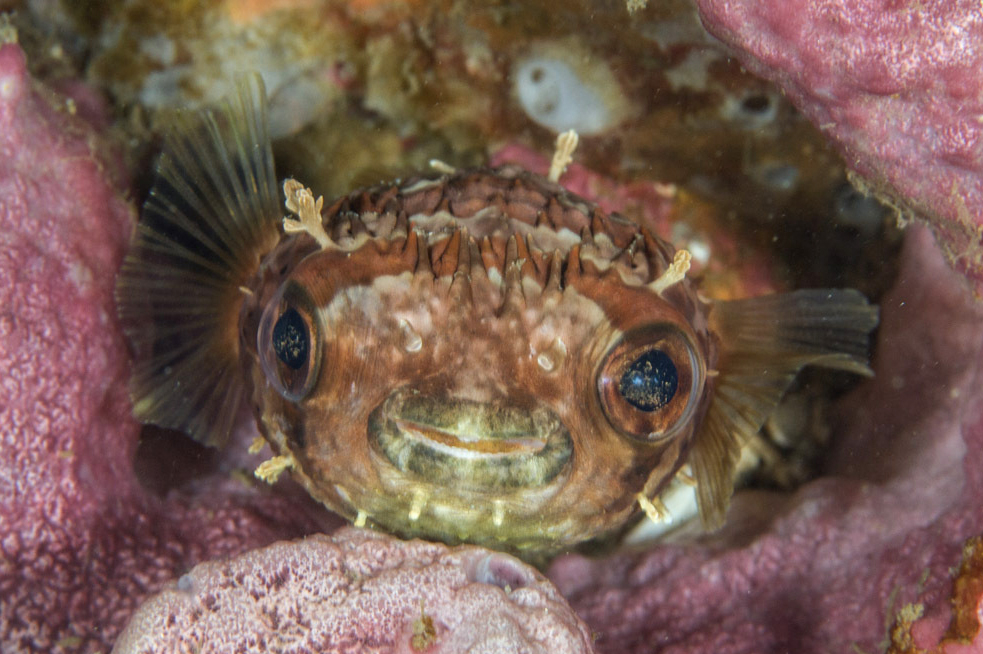Diodon_holocanthus: (175, 133, 812, 569)
